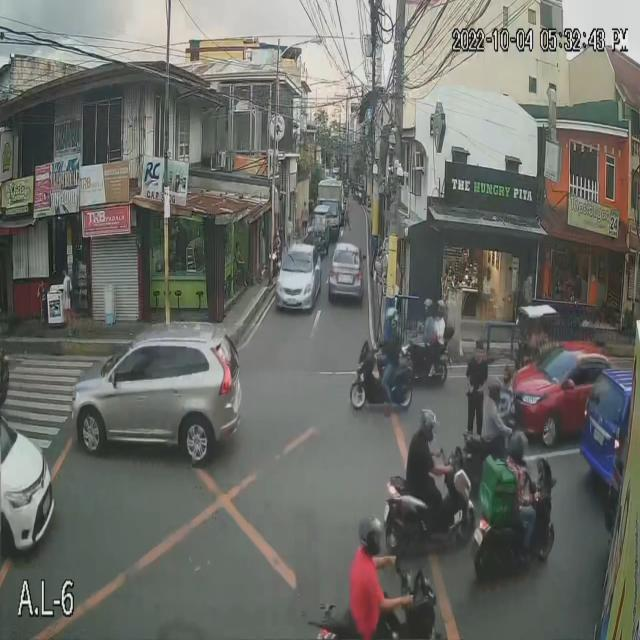Full-Faced: (506, 431, 529, 467), (486, 374, 499, 402), (386, 306, 400, 330), (432, 296, 445, 318), (421, 293, 432, 317)
Half-Faced: (358, 517, 389, 559), (415, 405, 439, 445)
